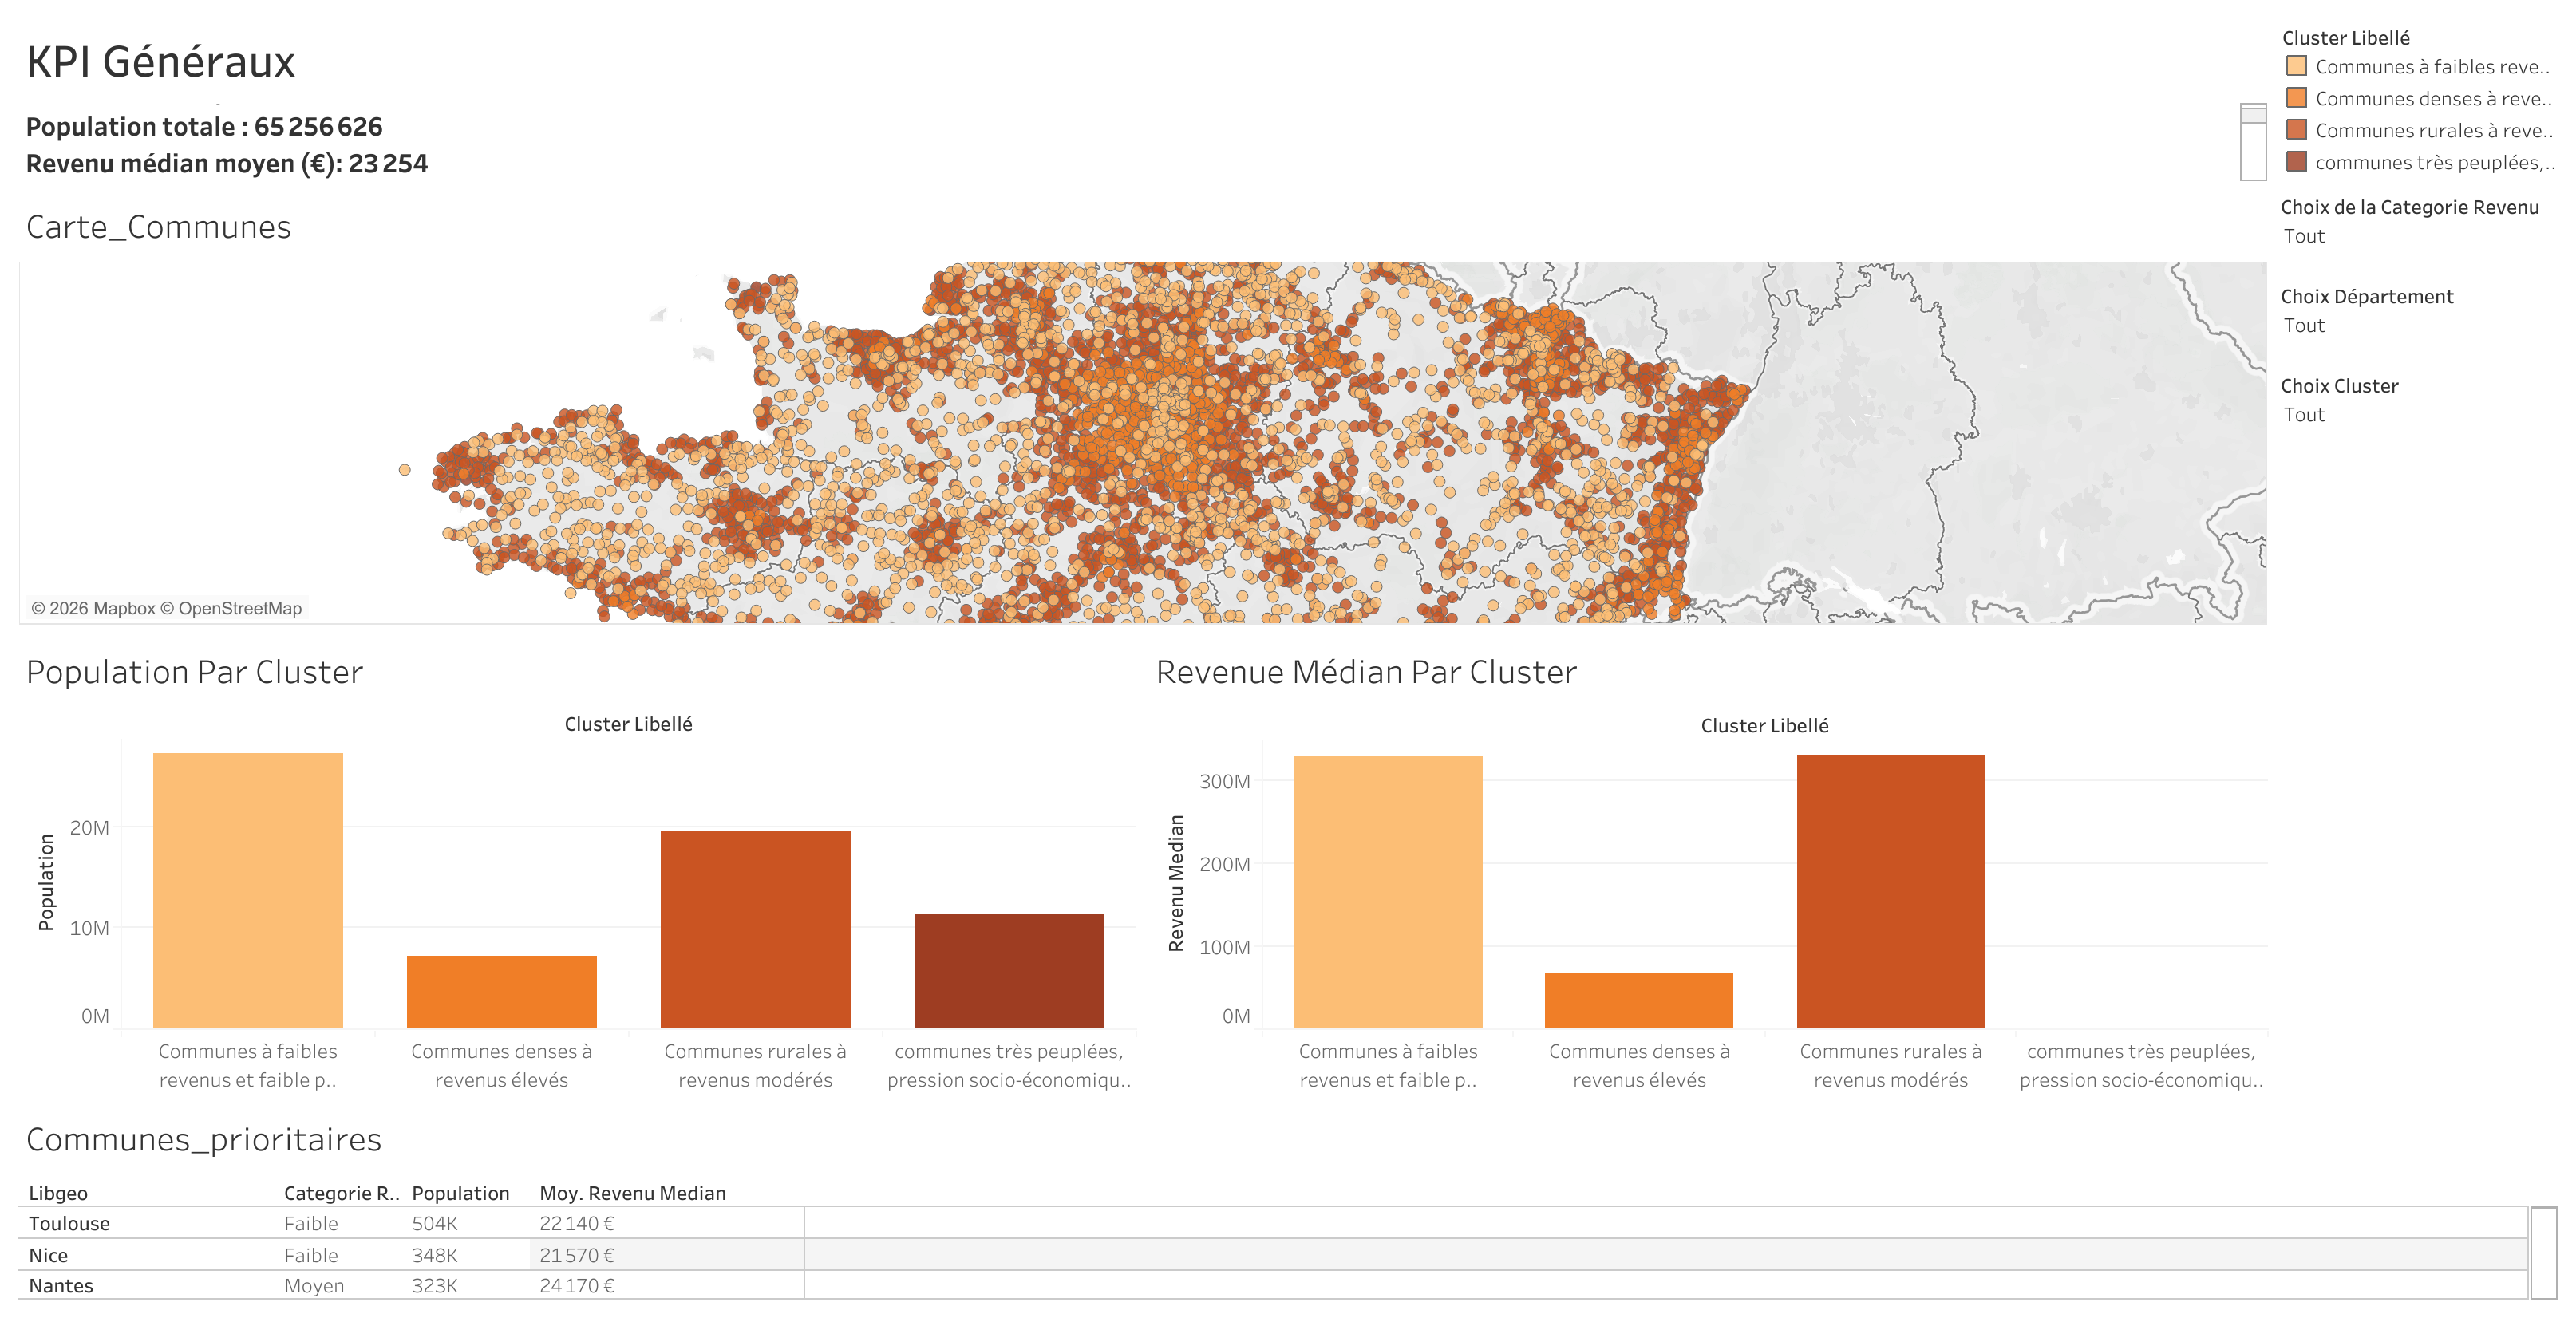

What the dashboard file says about the page in this screenshot:
{"tool":"tableau","page":{"name":"Tableau de bord 1","canvas":[1000,1000],"units":"permille","ordinal":0},"visuals":[{"type":"worksheet","title":"KPI Généraux","mark":"Automatic","box":[5.5,8.7,865.2,131.8]},{"type":"legend","title":"Population Par Cluster","param":"[federated.1gqvxa90o7kcm112r6mho1ved3d0].[none:Calculation_0026136808009729:nk]","box":[870.7,8.7,123.9,115.5]},{"type":"legend","title":"Carte_Communes","param":"[federated.1gqvxa90o7kcm112r6mho1ved3d0].[none:cluster:qk]","box":[870.7,124.2,123.9,70.8]},{"type":"worksheet","title":"Carte_Communes","mark":"Multipolygon","box":[5.5,140.5,865.2,337.7]},{"type":"filter","title":"Revenue Médian Par Cluster","param":"[federated.1gqvxa90o7kcm112r6mho1ved3d0].[none:categorie_revenu:nk]","box":[870.7,195,123.9,56.6]},{"type":"filter","title":"Revenue Médian Par Cluster","param":"[federated.1gqvxa90o7kcm112r6mho1ved3d0].[none:dep:ok]","box":[870.7,251.6,123.9,56.6]},{"type":"filter","title":"Carte_Communes","param":"[federated.1gqvxa90o7kcm112r6mho1ved3d0].[none:Calculation_0026136808009729:nk]","box":[870.7,308.2,123.9,56.6]},{"type":"worksheet","title":"Population Par Cluster","mark":"Bar","rows":["population"],"cols":["Calculation_0026136808009729"],"box":[5.5,478.2,432.6,355.1]},{"type":"worksheet","title":"Revenue Médian Par Cluster","mark":"Bar","rows":["revenu_median"],"cols":["Calculation_0026136808009729"],"box":[438.1,478.2,432.6,355.1]},{"type":"worksheet","title":"Communes_prioritaires","mark":"Text","rows":["libgeo","categorie_revenu","population","revenu_median"],"box":[5.5,833.3,989.1,158]}]}

Visuals, with their boxes on the dashboard's canvas, which has no fixed pixel size, in thousandths of its width and height (x1, y1, x2, y2). These are canvas units, not pixel positions in the 2576x1318 screenshot, which may show the page scaled, cropped or inside an application window:
"KPI Généraux" worksheet: {"left": 6, "top": 9, "right": 871, "bottom": 140}
"Population Par Cluster" legend: {"left": 871, "top": 9, "right": 995, "bottom": 124}
"Carte_Communes" legend: {"left": 871, "top": 124, "right": 995, "bottom": 195}
"Carte_Communes" worksheet (Multipolygon marks): {"left": 6, "top": 140, "right": 871, "bottom": 478}
"Revenue Médian Par Cluster" filter: {"left": 871, "top": 195, "right": 995, "bottom": 252}
"Revenue Médian Par Cluster" filter: {"left": 871, "top": 252, "right": 995, "bottom": 308}
"Carte_Communes" filter: {"left": 871, "top": 308, "right": 995, "bottom": 365}
"Population Par Cluster" worksheet (Bar marks): {"left": 6, "top": 478, "right": 438, "bottom": 833}
"Revenue Médian Par Cluster" worksheet (Bar marks): {"left": 438, "top": 478, "right": 871, "bottom": 833}
"Communes_prioritaires" worksheet (Text marks): {"left": 6, "top": 833, "right": 995, "bottom": 991}
